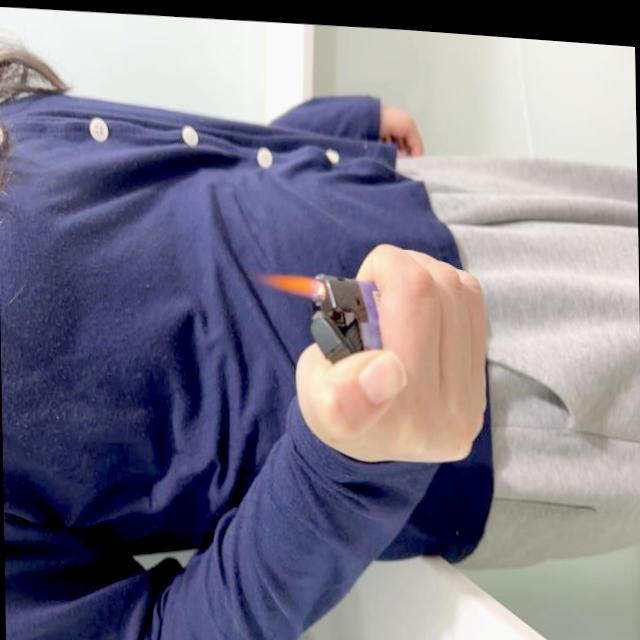helmet: (256, 267, 327, 297)
